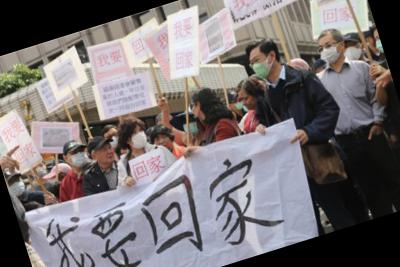with_mask: (316, 37, 346, 67), (247, 52, 274, 82), (127, 125, 151, 152), (342, 38, 366, 64), (6, 176, 29, 201), (28, 159, 51, 183), (68, 147, 91, 171), (180, 115, 203, 139), (103, 130, 124, 151), (188, 102, 205, 127), (373, 34, 385, 54), (232, 97, 246, 112)
without_mask: (94, 142, 119, 168), (153, 131, 175, 155), (240, 92, 259, 115)
